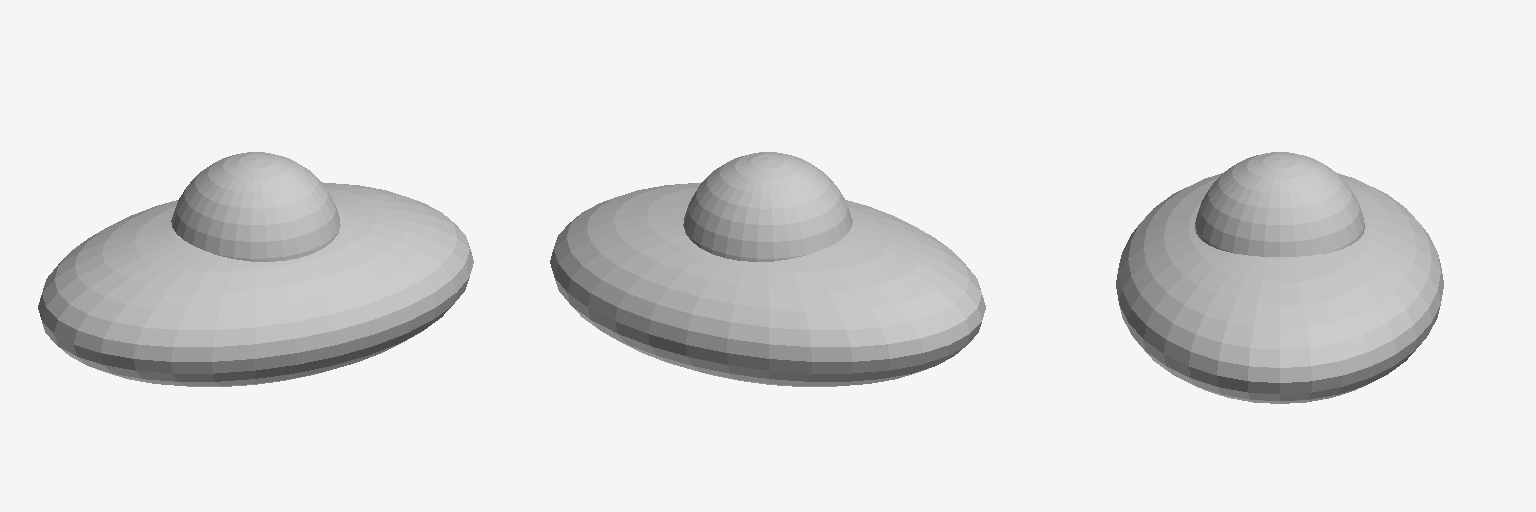
File: player_collapse.obj
3 renders of one model, left to right at view 1: azimuth 30°, elevation 25°; view 2: azimuth 150°, elevation 25°; view 3: azimuth 270°, elevation 25°, orthographic.
Visible parts, largest first — view 1: 球; view 2: 球; view 3: 球.
Boxes of the visible parts, <box> form: 球: <box>38,152,473,386</box>; 球: <box>550,152,985,386</box>; 球: <box>1116,152,1443,403</box>.
Bounding box in the file's own units: 2 × 0.9083 × 1.41.